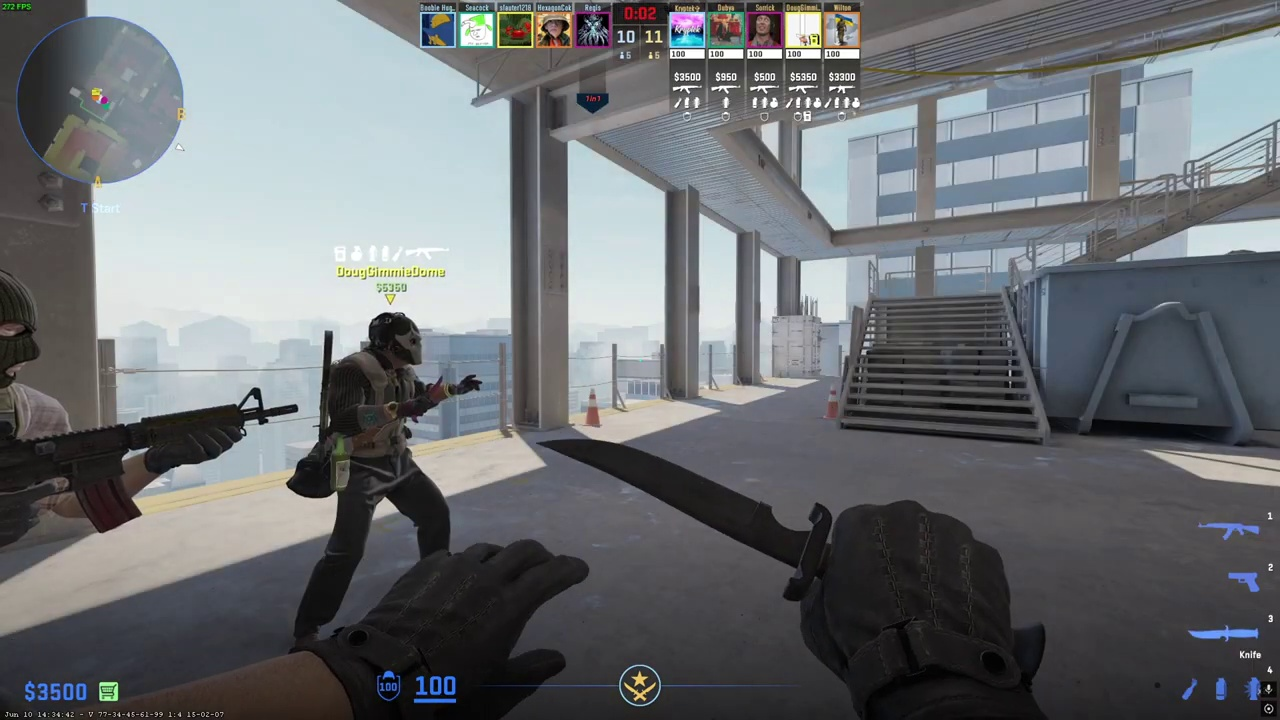Terrorist: (304, 312, 455, 650), (0, 270, 104, 551)
